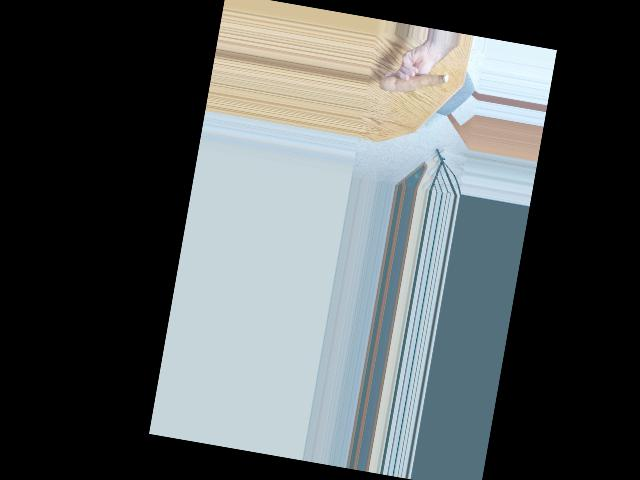sweet_potato: (379, 63, 450, 103)
